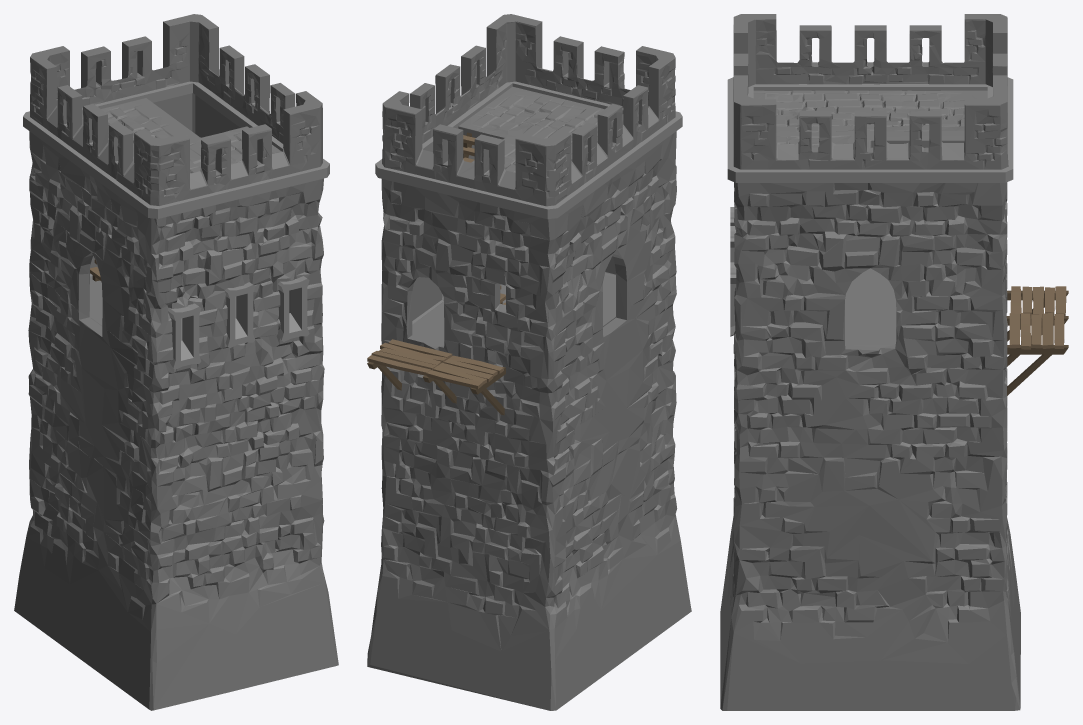
Rendered from castle_tower_a.FBX.
The picture shows the model from 3 angles, left to right: view 1: azimuth 30°, elevation 25°; view 2: azimuth 150°, elevation 25°; view 3: azimuth 270°, elevation 25°; orthographic projection. The views are drawn at different scales.
Visible parts, largest first — view 1: castle_tower_a; view 2: castle_tower_a; view 3: castle_tower_a.
Part boxes in pixels (x1,y1,x2,y2): castle_tower_a: (14,14,338,710); castle_tower_a: (367,14,691,710); castle_tower_a: (720,14,1068,710).
Size of the model in its own units: 6.04 by 16.98 by 8.9.
